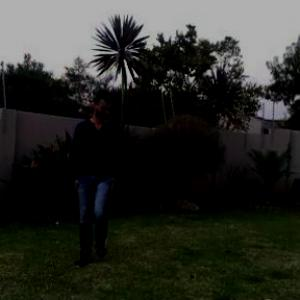follow: (62, 76, 128, 274)
